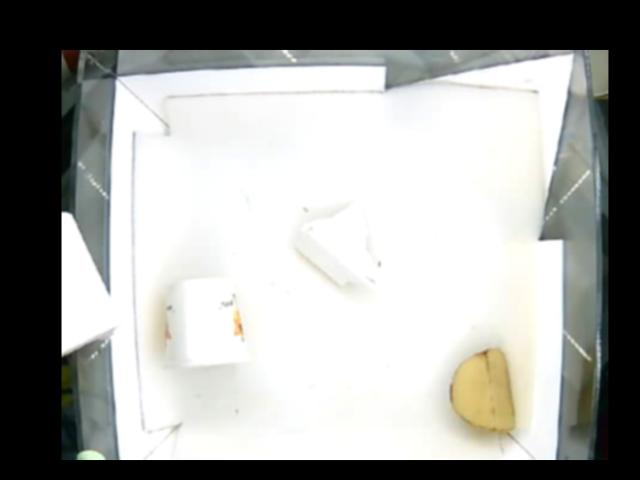China: (294, 202, 383, 296)
Cup: (160, 276, 251, 366)
Potato: (447, 347, 515, 431)
